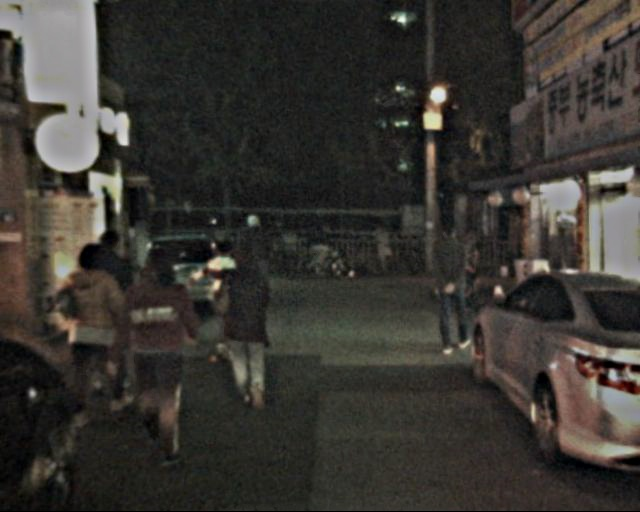person: (120, 238, 207, 465), (58, 239, 132, 425), (78, 227, 151, 404), (215, 245, 280, 405), (423, 221, 479, 357), (199, 240, 248, 360), (232, 215, 279, 329), (306, 220, 326, 270)
